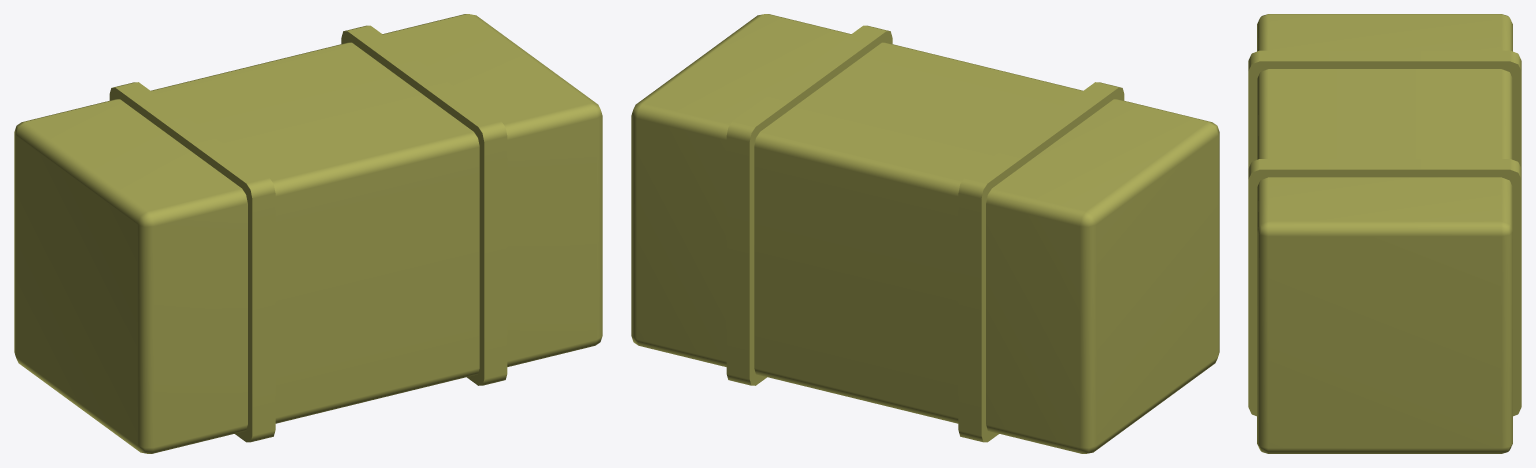
Rendered from MOD_HayBale.fbx.
3 views of the same model, side by side, from view 1: azimuth 30°, elevation 25°; view 2: azimuth 150°, elevation 25°; view 3: azimuth 270°, elevation 25° (orthographic). The views are drawn at different scales.
Visible parts, largest first — view 1: HayBaleGreybox_v3; view 2: HayBaleGreybox_v3; view 3: HayBaleGreybox_v3.
Boxes of the visible parts, x1,y1,x2,y2 form: HayBaleGreybox_v3: (14,14,602,453); HayBaleGreybox_v3: (631,14,1219,453); HayBaleGreybox_v3: (1248,14,1521,453).
Size of the model in its own units: 240 by 128 by 128.
